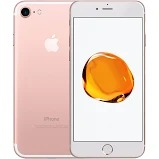iphone: (70, 1, 145, 159)
iphone6: (68, 1, 148, 159)
